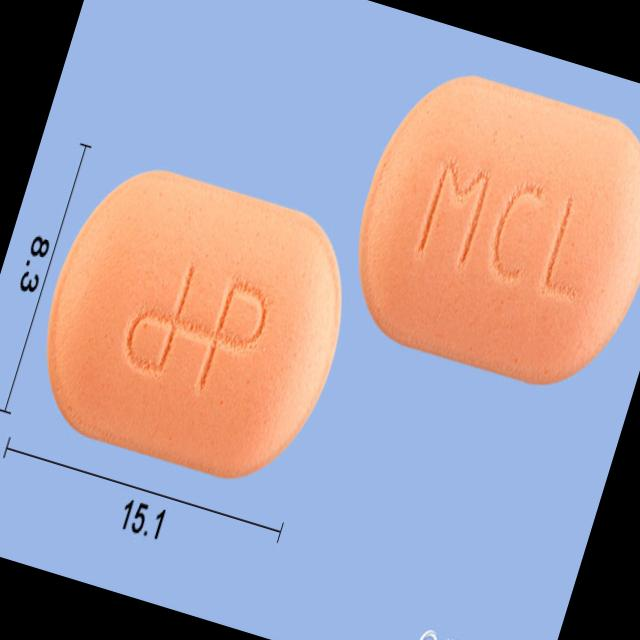Cephamethyl Tab: (12, 143, 376, 508), (323, 51, 640, 416)
